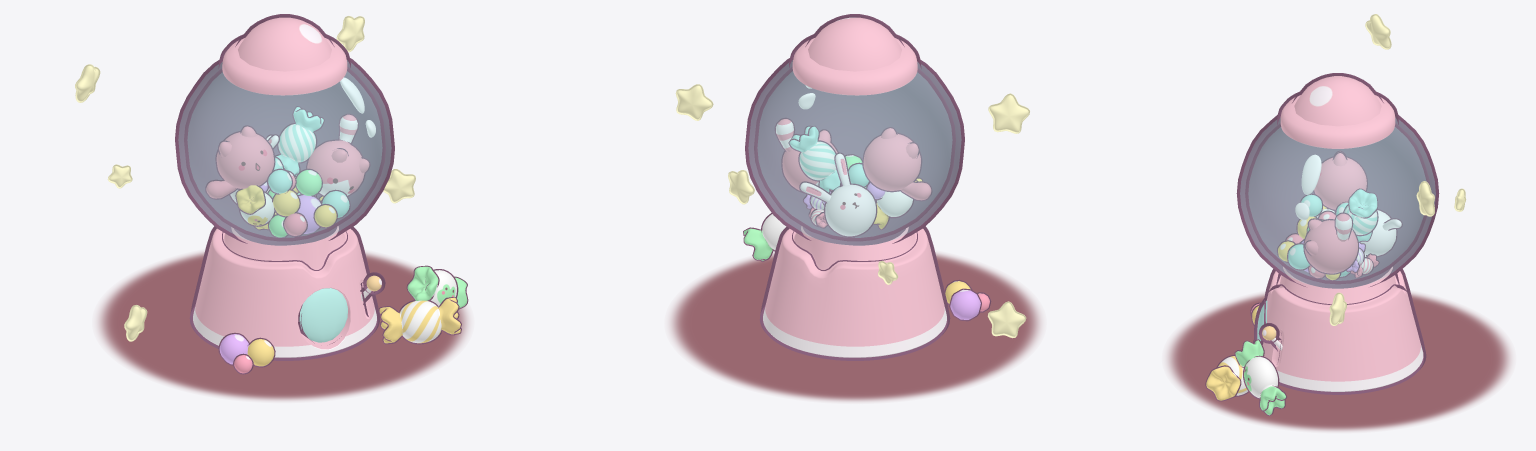
The picture shows the model from 3 angles, left to right: view 1: azimuth 30°, elevation 25°; view 2: azimuth 150°, elevation 25°; view 3: azimuth 270°, elevation 25°; orthographic projection. The views are drawn at different scales.
Parts seen in each view (by area): view 1: Kawaii Gumball Machine; view 2: Kawaii Gumball Machine; view 3: Kawaii Gumball Machine.
Boxes of the visible parts, left/top/right/bottom form: Kawaii Gumball Machine: left=75, top=14, right=469, bottom=400; Kawaii Gumball Machine: left=669, top=14, right=1041, bottom=401; Kawaii Gumball Machine: left=1166, top=14, right=1511, bottom=431.
Bounding box in the file's own units: 31.76 × 26.1 × 30.
Materials: 7 (4 with a texture image).
